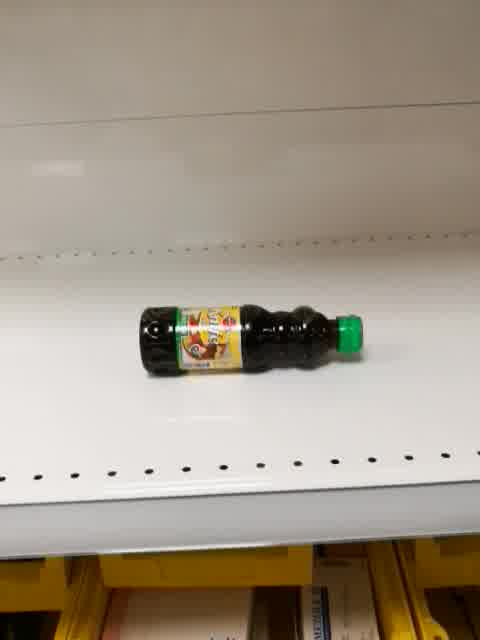cookingoil: (137, 303, 369, 379)
